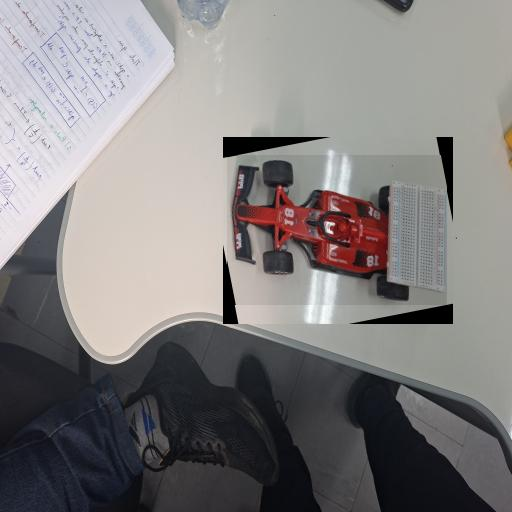carro: (227, 156, 446, 305)
